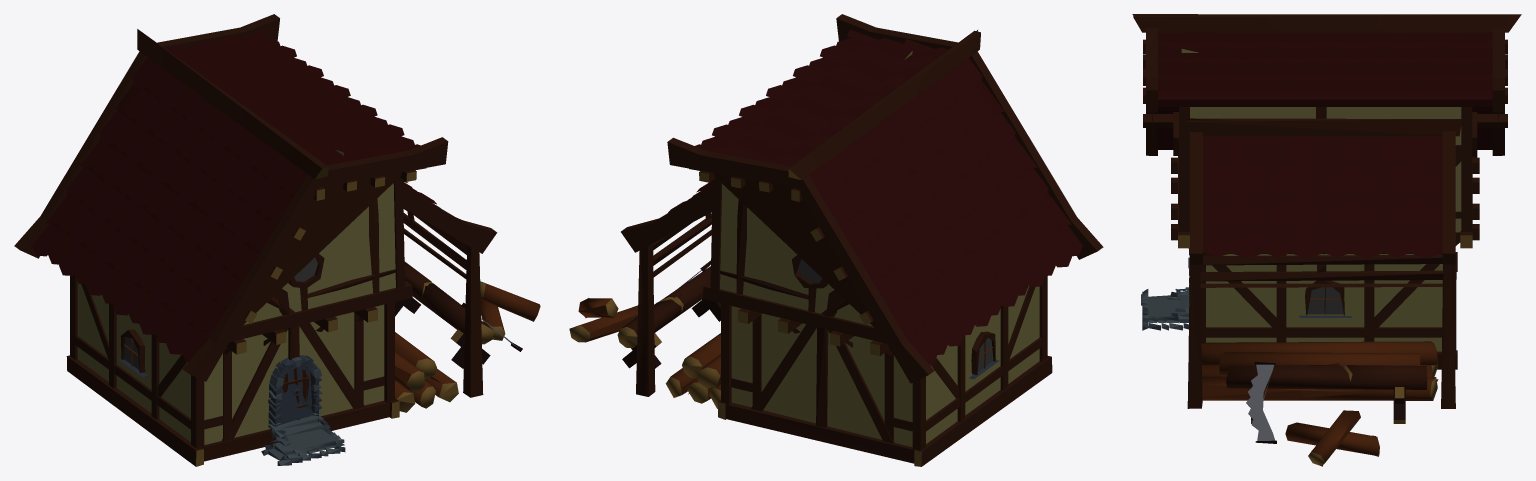
File: Sawmill.fbx
3 views of the same model, side by side, from view 1: azimuth 30°, elevation 25°; view 2: azimuth 150°, elevation 25°; view 3: azimuth 270°, elevation 25° (orthographic). The views are drawn at different scales.
Parts seen in each view (by area): view 1: High_Sawmill, Low_Sawmill; view 2: High_Sawmill, Low_Sawmill; view 3: High_Sawmill, Low_Sawmill.
Boxes of the visible parts, box(x1,y1,x2,y2) form: High_Sawmill: box(14, 14, 540, 466); Low_Sawmill: box(235, 148, 540, 395); High_Sawmill: box(569, 14, 1103, 466); Low_Sawmill: box(585, 30, 977, 394); High_Sawmill: box(1133, 14, 1521, 466); Low_Sawmill: box(1132, 14, 1499, 466).
Bounding box in the file's own units: 440 × 287 × 330.
